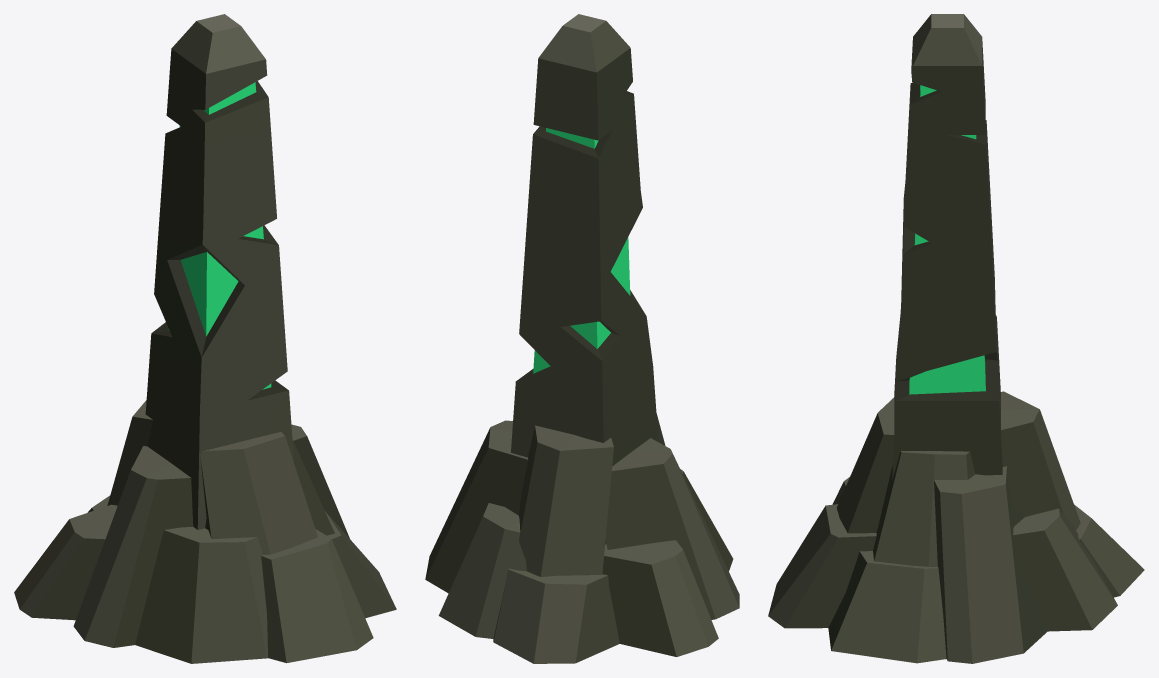
Rendered from Model_Undead_2x2A.fbx.
3 views of the same model, side by side, from view 1: azimuth 30°, elevation 25°; view 2: azimuth 150°, elevation 25°; view 3: azimuth 270°, elevation 25° (orthographic). The views are drawn at different scales.
Visible parts, largest first — view 1: Model_Frost_2x2A; view 2: Model_Frost_2x2A; view 3: Model_Frost_2x2A.
Part boxes in pixels (box(x1,y1,x2,y2)): Model_Frost_2x2A: box(14, 14, 396, 663); Model_Frost_2x2A: box(425, 14, 739, 663); Model_Frost_2x2A: box(768, 14, 1144, 663).
Bounding box in the file's own units: 360 × 636 × 380.
Materials: 2 (1 with a texture image).
